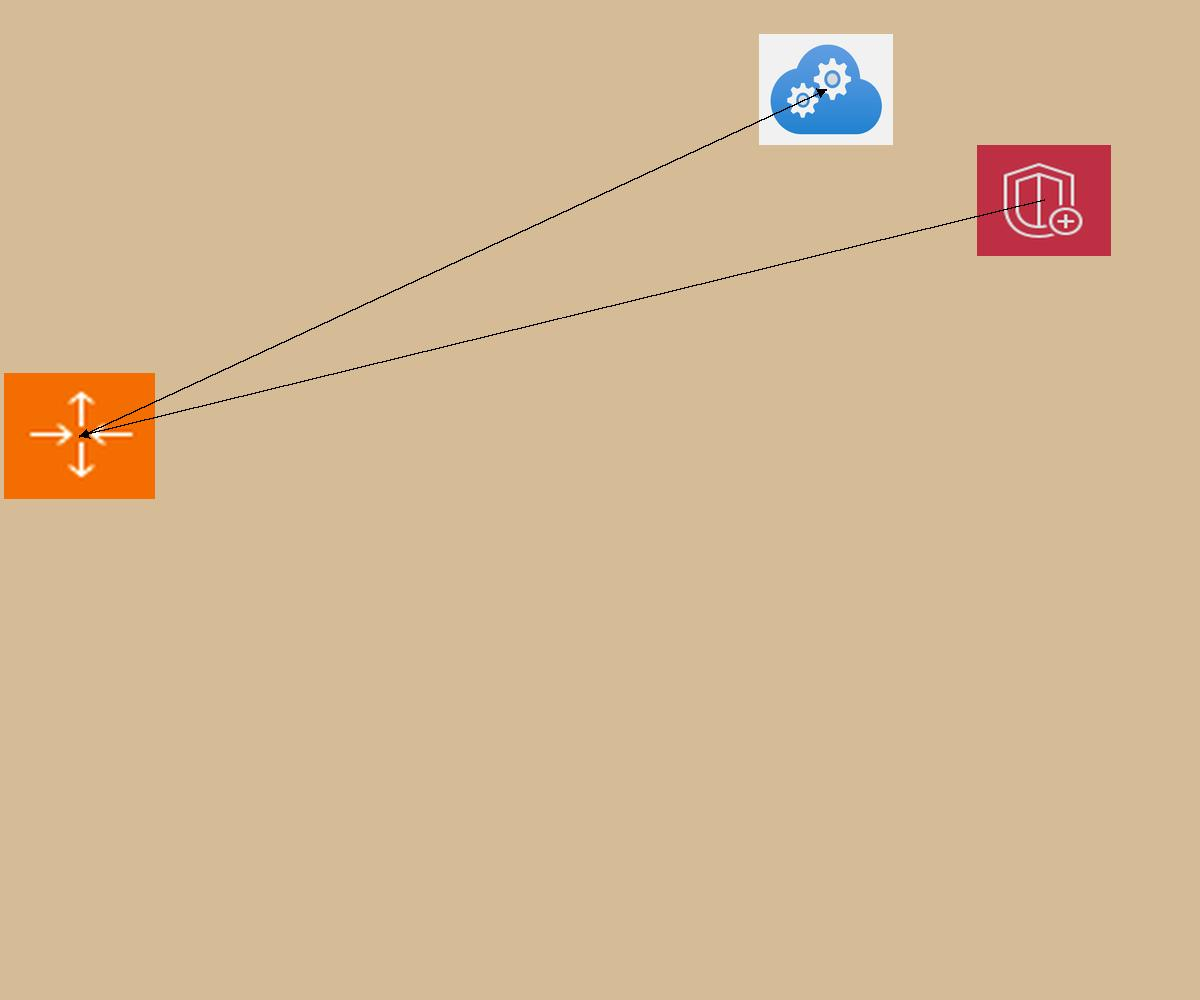AWS-Scaling-group: (4, 373, 155, 499)
AWS-Shield: (977, 145, 1111, 256)
Azure_cloud_services: (759, 34, 893, 145)
